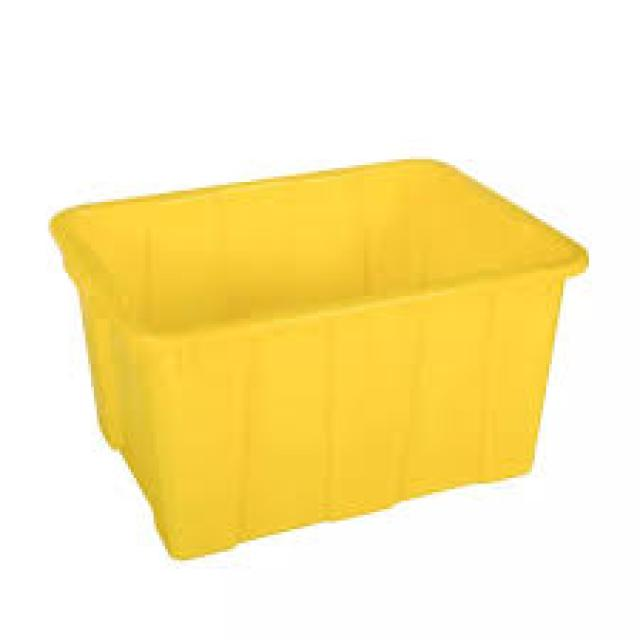basket: (47, 89, 636, 573)
